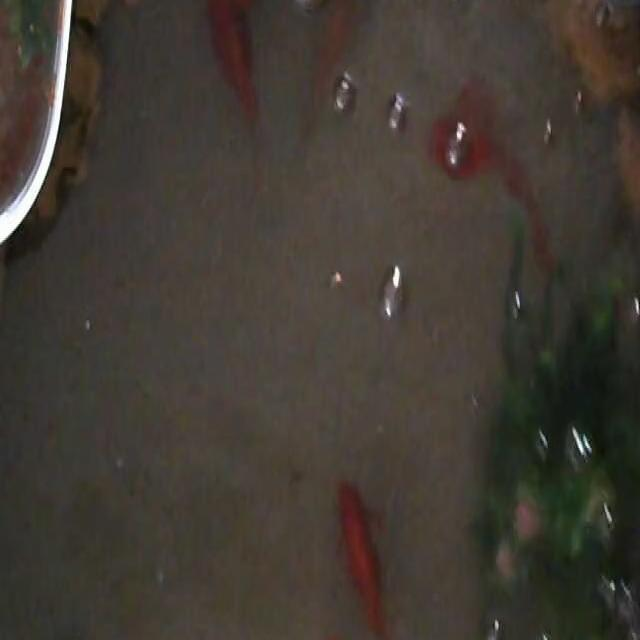fish: (431, 81, 551, 273), (334, 473, 415, 640), (203, 0, 262, 162), (312, 0, 359, 133)
